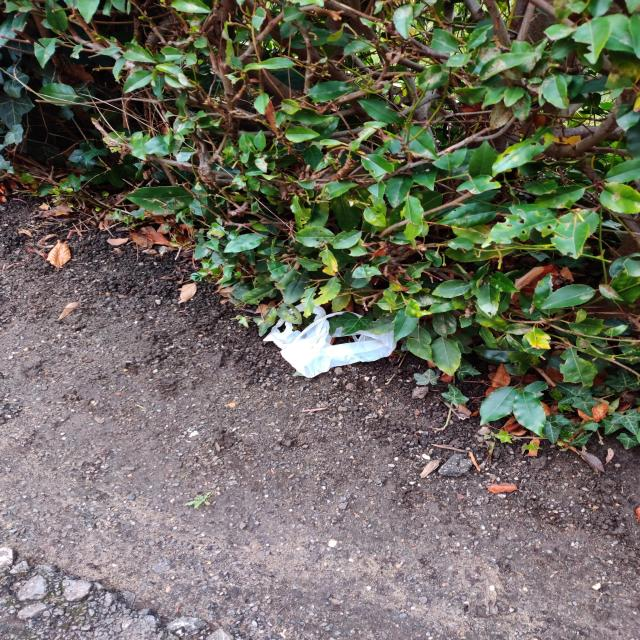litter: (262, 303, 396, 378)
